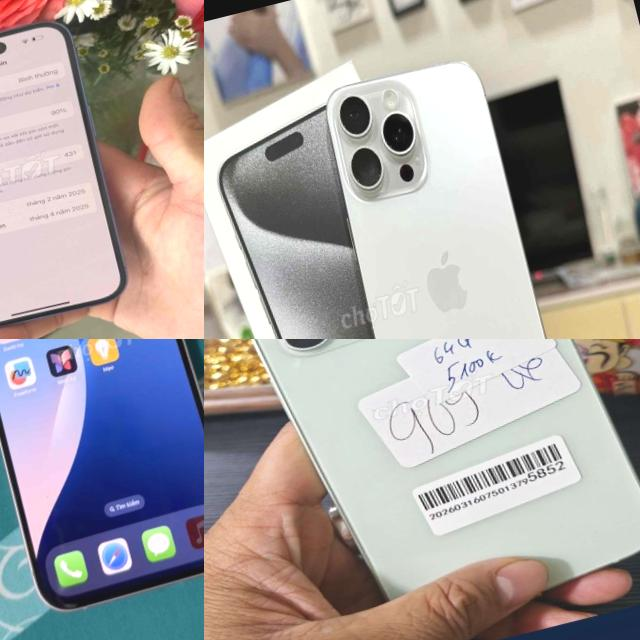gen_12_13: (204, 339, 640, 640), (305, 47, 597, 339)
gen_15: (0, 339, 204, 632)
gen_16: (0, 22, 125, 326)
